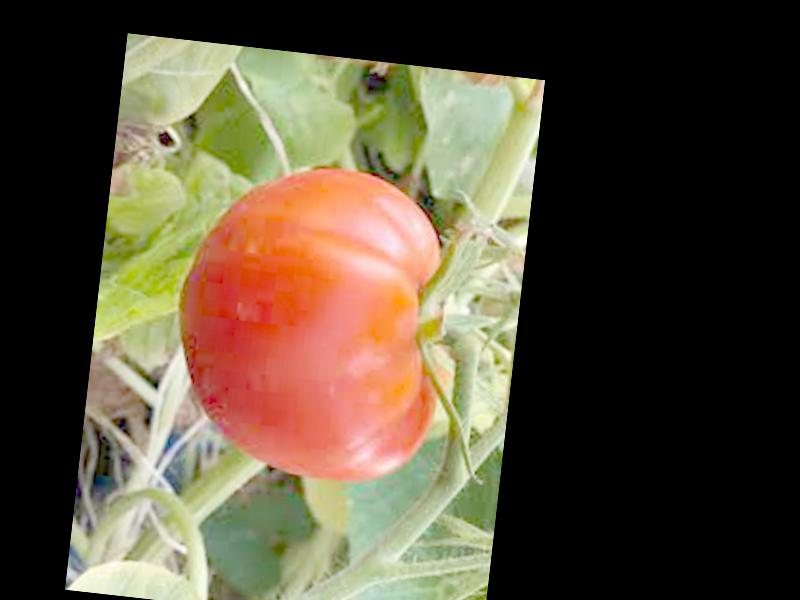Tomato: (164, 153, 460, 493)
